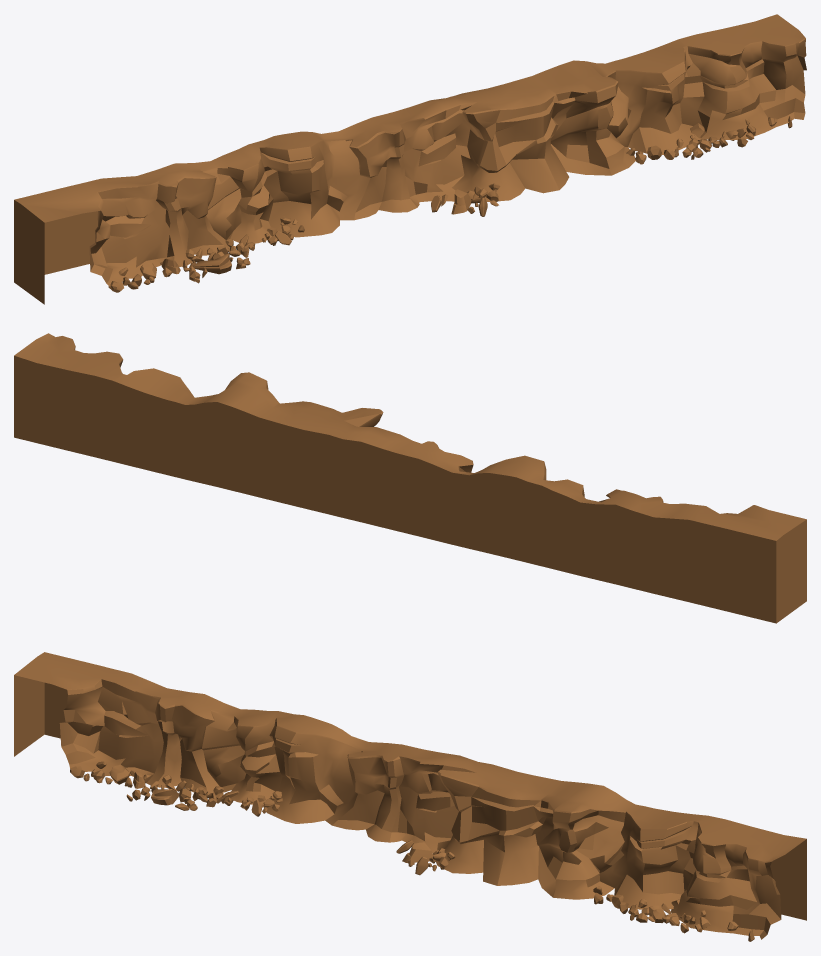
Rendered from cliff.obj.
3 views of the same model, one above another, from view 1: azimuth 30°, elevation 25°; view 2: azimuth 150°, elevation 25°; view 3: azimuth 330°, elevation 25° (orthographic).
Parts seen in each view (by area): view 1: Cliff; view 2: Cliff; view 3: Cliff.
Boxes of the visible parts, bbox=[...] form: Cliff: bbox=[14, 14, 806, 304]; Cliff: bbox=[14, 333, 806, 623]; Cliff: bbox=[14, 652, 806, 941].
Bounding box in the file's own units: 103 × 11.9 × 11.63.
